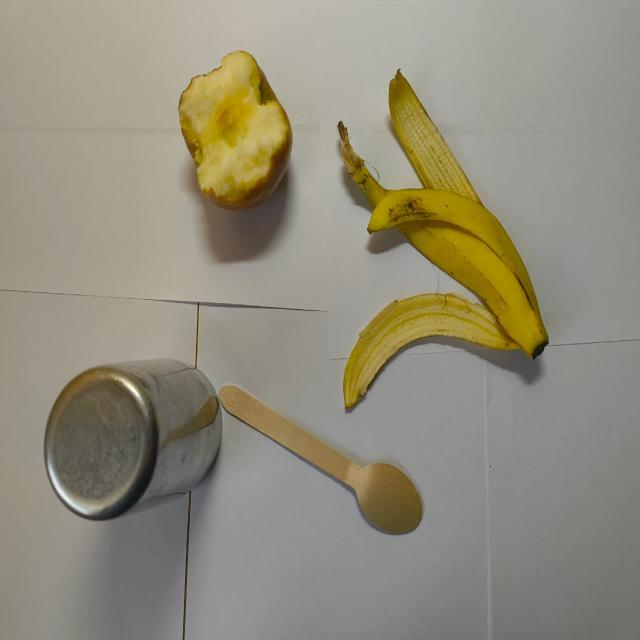Apple-Bio: (176, 47, 294, 214)
Banana-Bio: (337, 66, 550, 413)
Steel-NonBio: (42, 355, 223, 523)
Wooden Spoon-Bio: (217, 378, 423, 536)
